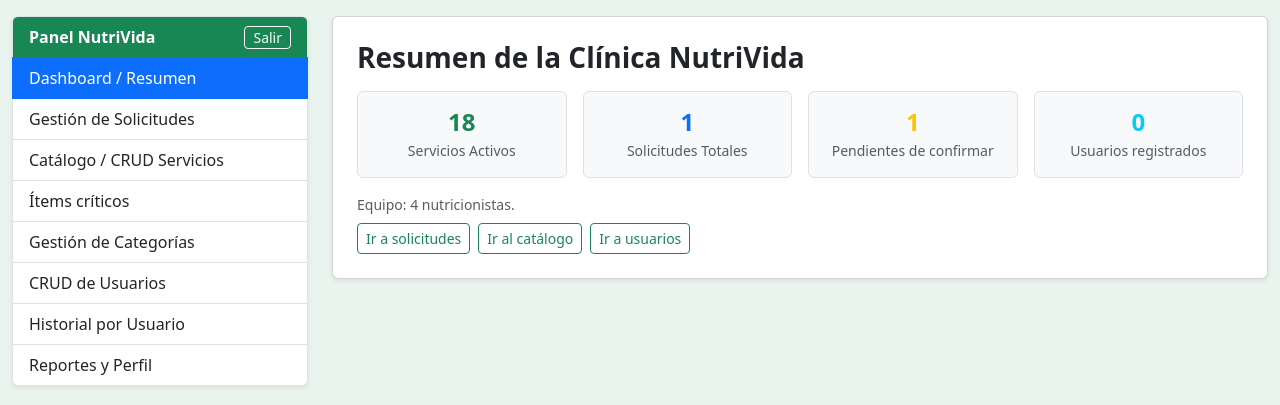
Vista de Administración - AdminDashboardPage › al confirmar una solicitud, el cambio pasa por CitasContext y queda guardado
This screenshot has width=1280, height=405.
Click the button "Gestión de Solicitudes".
click(160, 120)  # box x1=12 y1=99 x2=308 y2=140
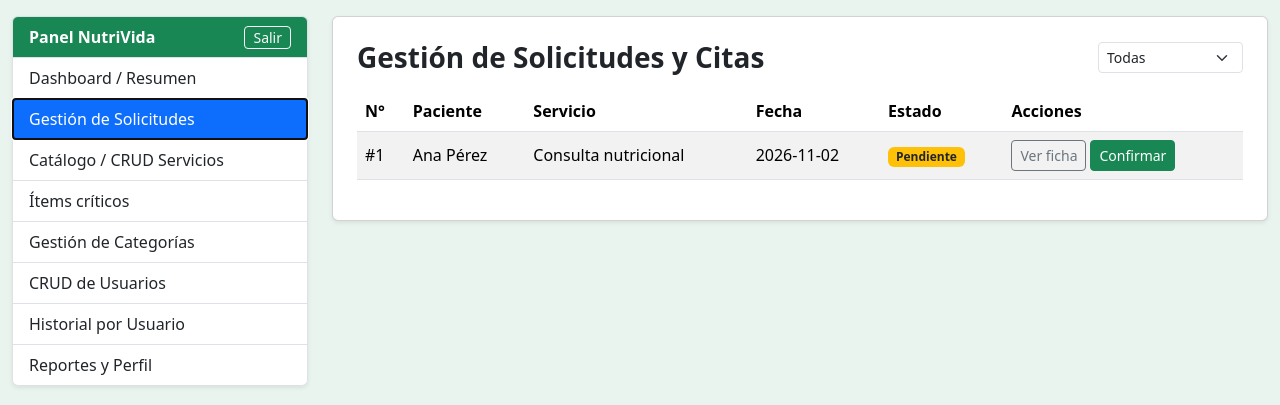
Click the button "Confirmar".
click(1133, 155)  # box x1=1090 y1=140 x2=1175 y2=171
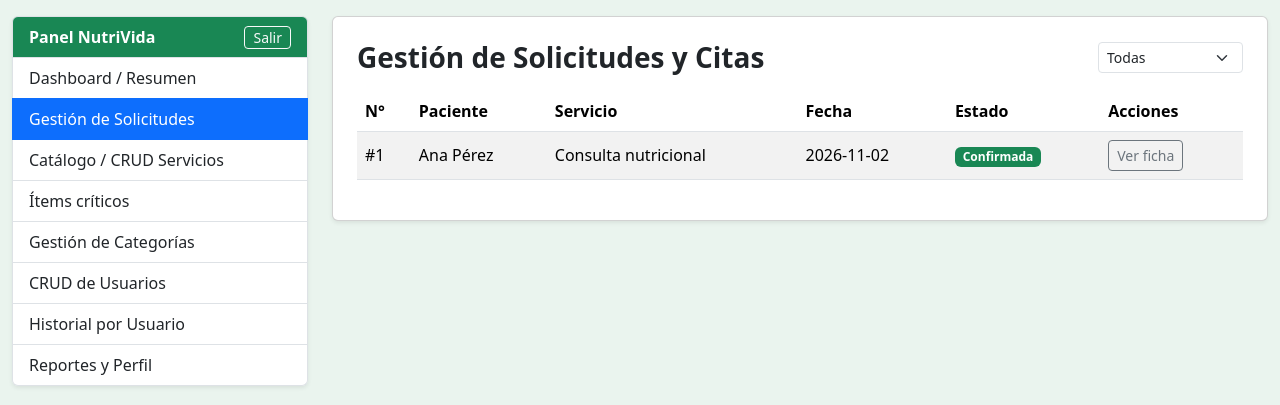
Now the text "Confirmada" is shown, box x1=955 y1=147 x2=1041 y2=167
